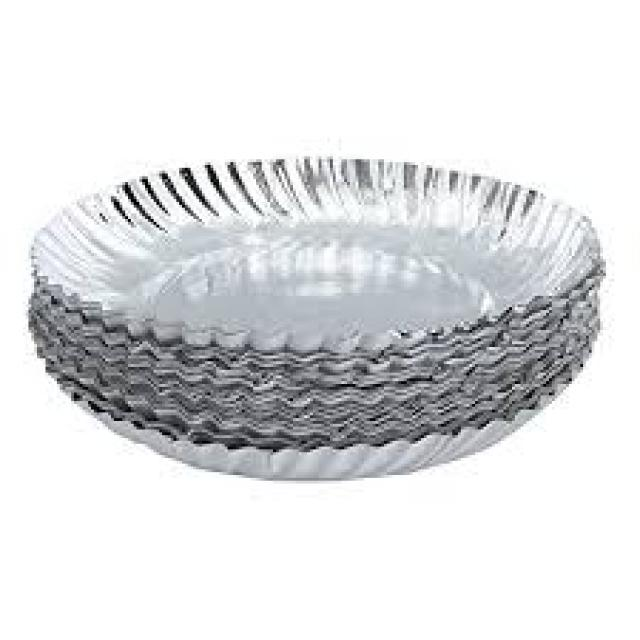Paper -Biodegradable-: (29, 157, 606, 480)
